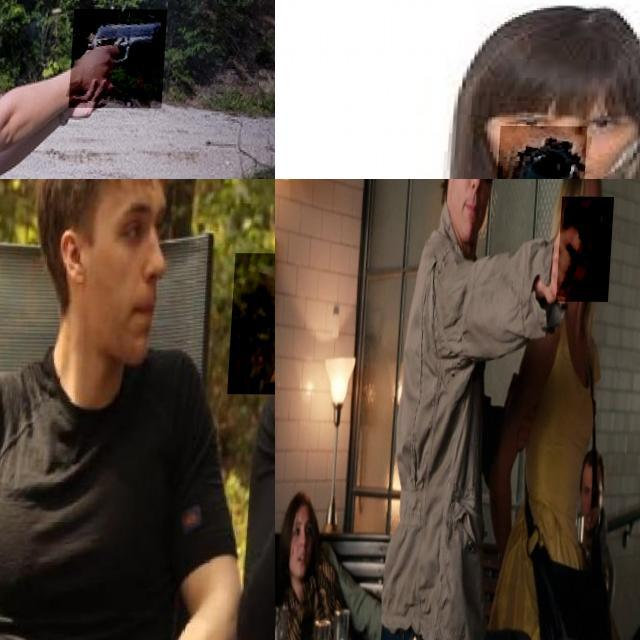-: (231, 252, 275, 394)
gun-knife-thesis - v11 Yolov5 augmented: (73, 8, 170, 108), (558, 196, 616, 301), (496, 125, 589, 179)
